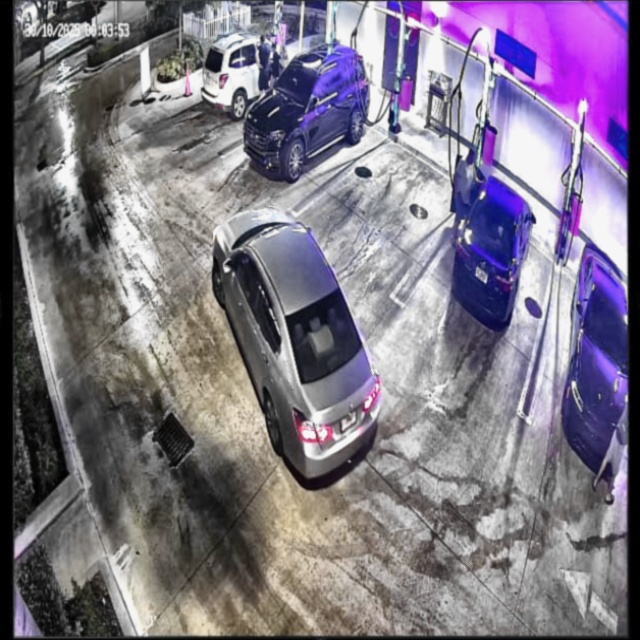Car: (211, 207, 378, 477), (245, 44, 370, 176), (458, 155, 535, 325)
